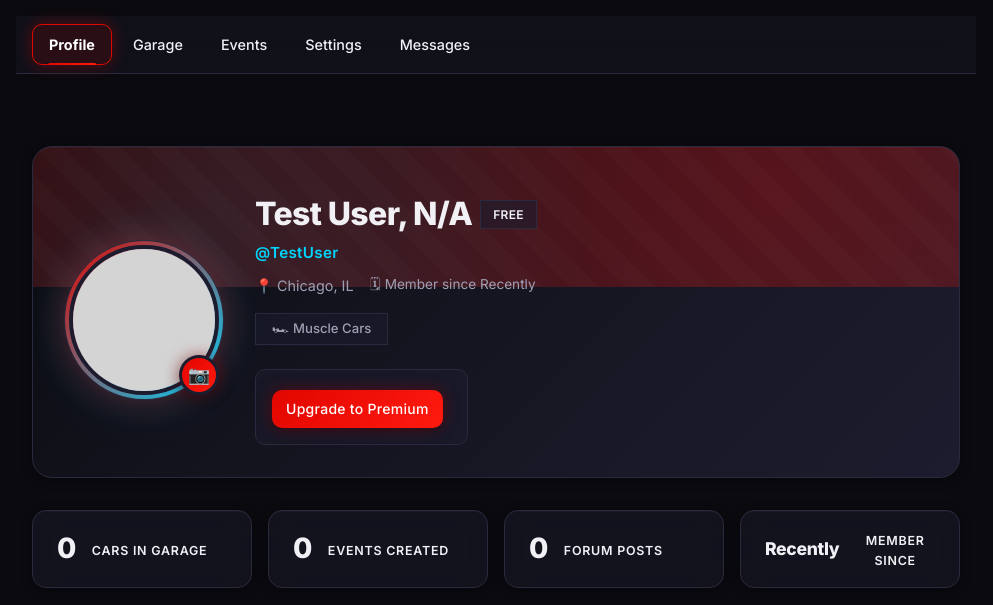
Test: Profile component › clicking Garage tab shows garage section
Click the button "Garage". click: click(158, 44)
box: [116, 24, 200, 65]
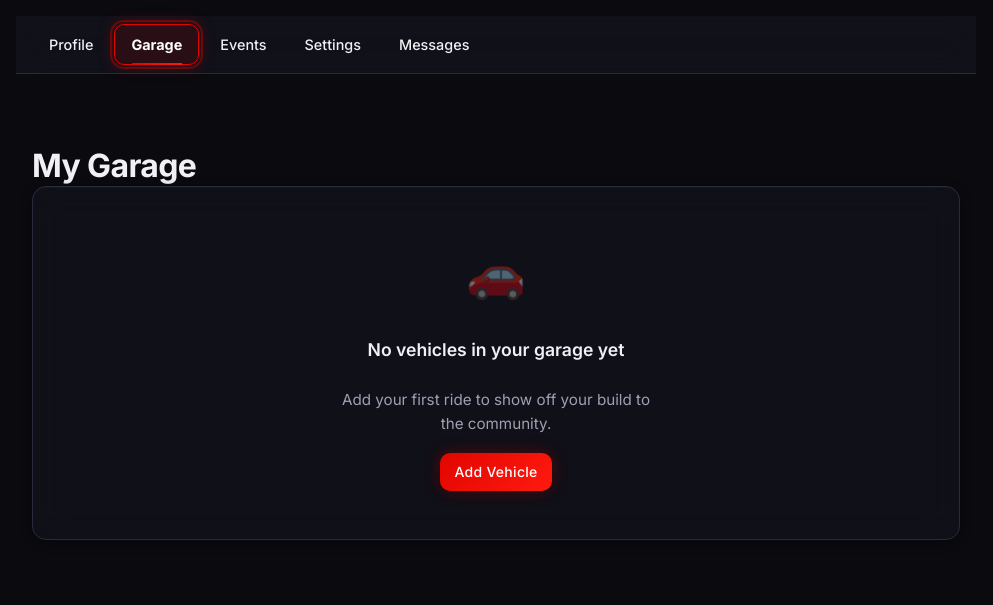
Now the heading "My Garage" is shown, box [32, 146, 196, 185]
